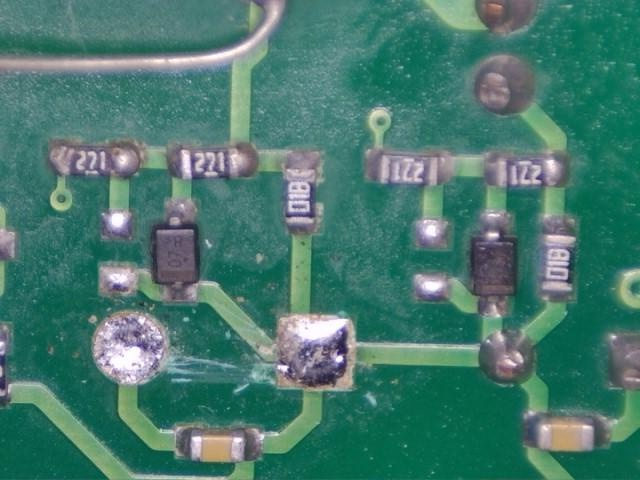pcb_defect: (277, 316, 356, 390), (96, 316, 165, 383)
